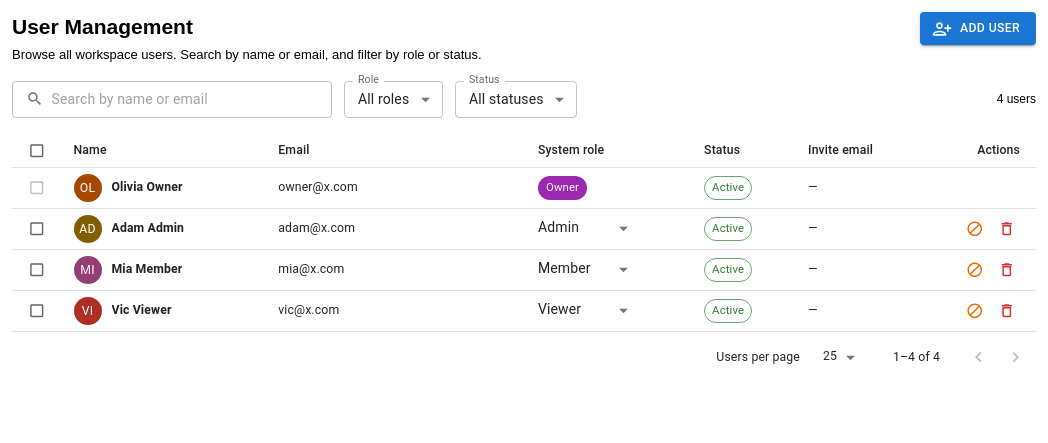
Test case: UserManagementPage — bulk delete › select-all picks every selectable (non-owner) row on the page
Expected: the text "Mia Member" is shown, x1=112 y1=261 x2=182 y2=278
Click the checkbox named "Select all users on this page": coordinates (37, 150) x1=28 y1=142 x2=46 y2=159
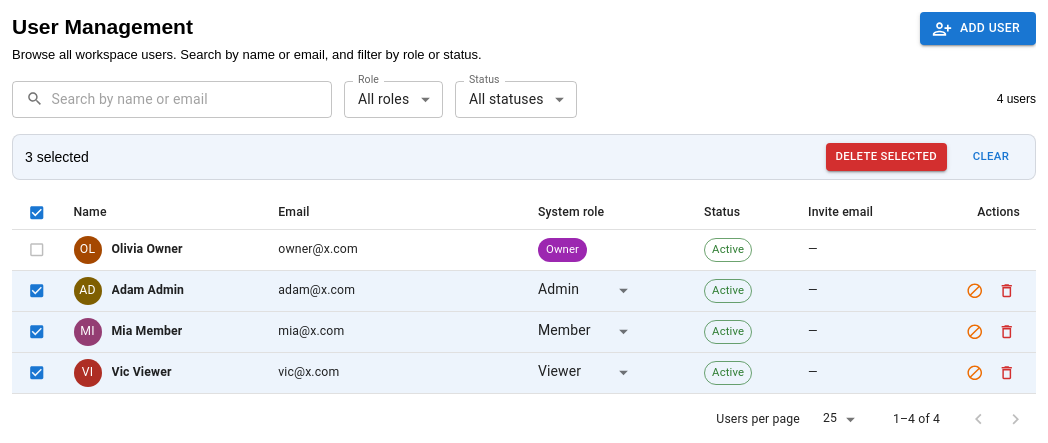
Now the text "3 selected" is shown, box x1=25 y1=147 x2=89 y2=167
